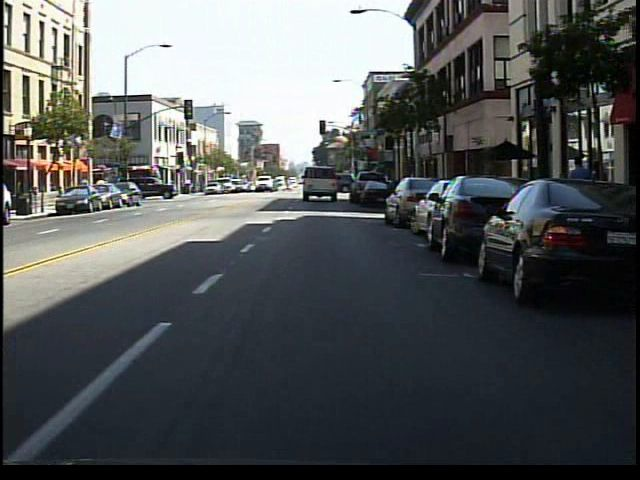person: (563, 150, 592, 236), (588, 156, 612, 232)
